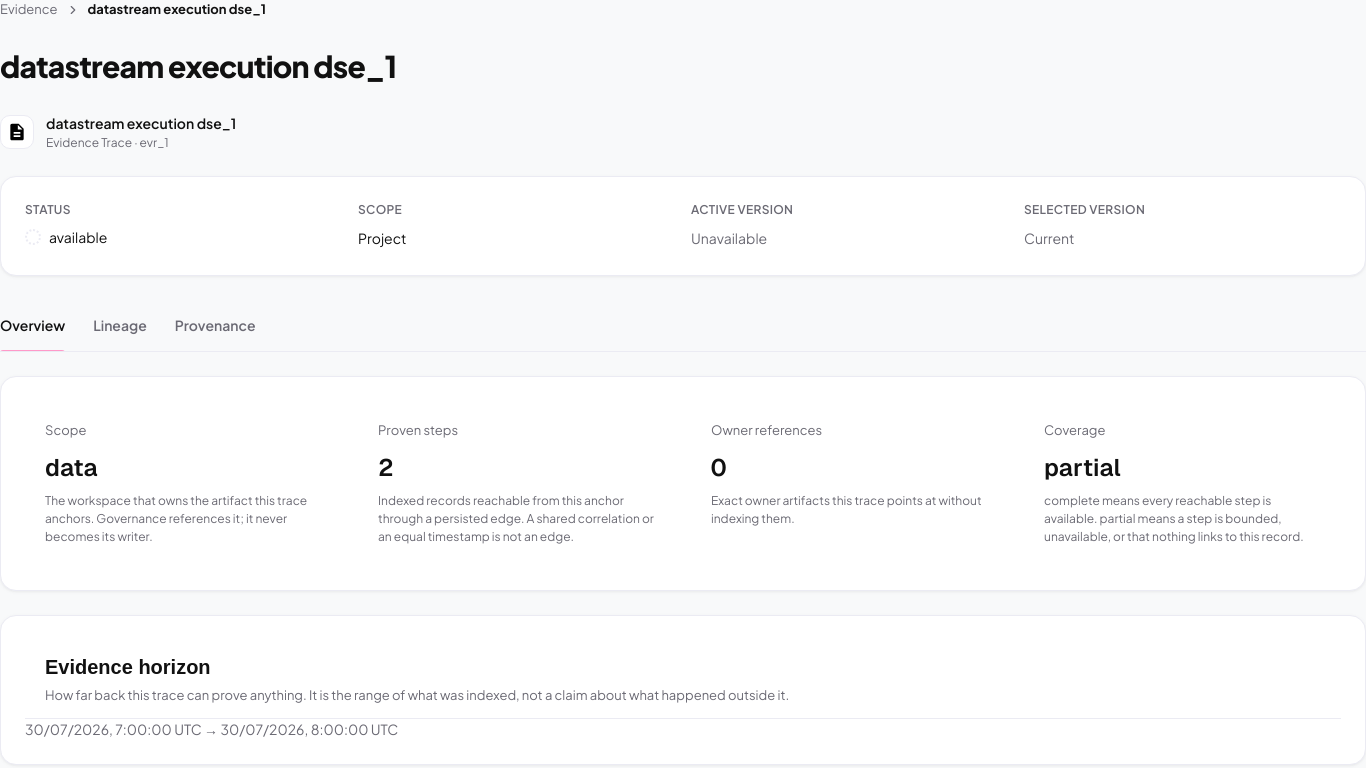
Test: the three Evidence workbenches › shows Overview, Lineage and Provenance as three different projections
Check: the heading "Evidence horizon" is shown, box [45, 656, 211, 678]
Check: the text "Proven steps" is shown, box [378, 422, 458, 438]
Click the link "Lineage" at (120, 326), box [93, 300, 147, 352]
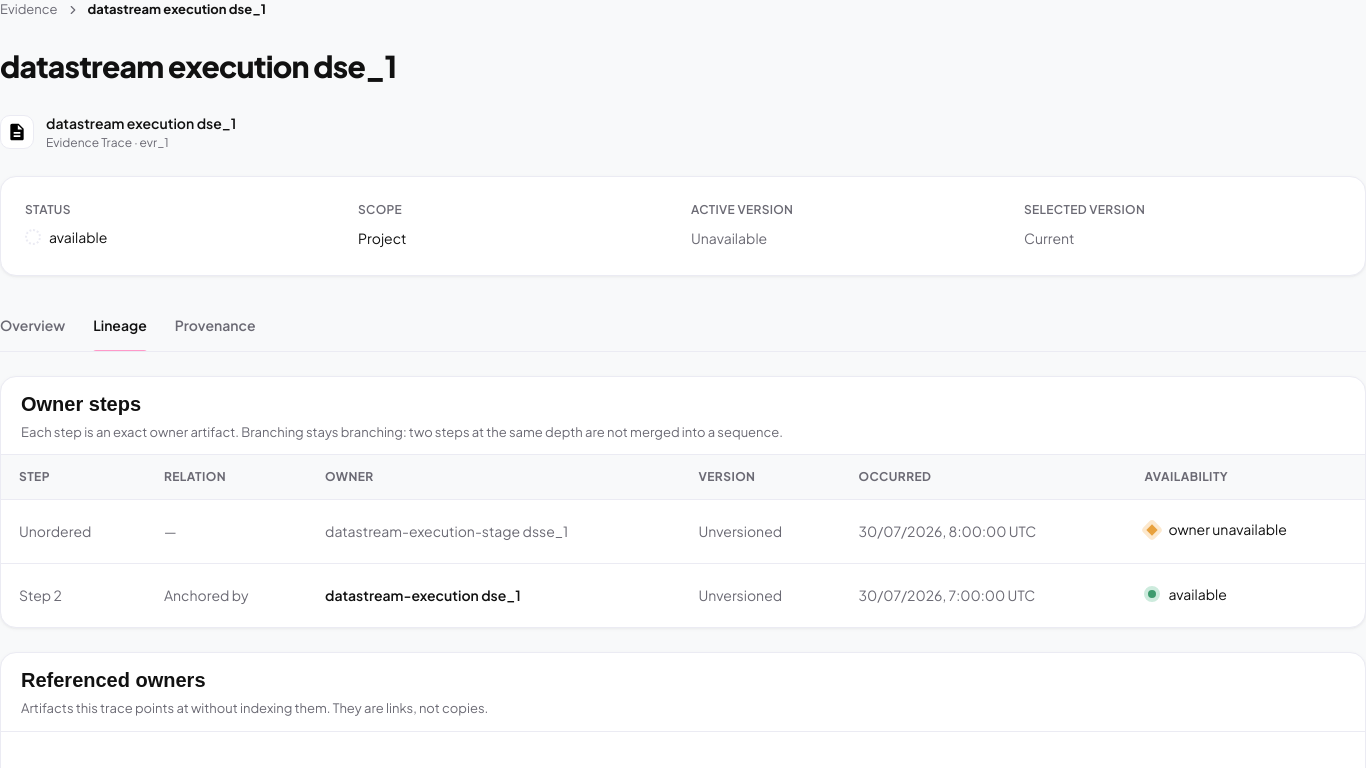
Check: the heading "Owner steps" is shown, box [21, 392, 141, 414]
Check: the text "Step 2" is shown, box [1, 563, 146, 627]
Check: the text "owner unavailable" is shown, box [1168, 519, 1287, 540]
Click the link "Provenance" at (215, 326), box [175, 300, 256, 352]
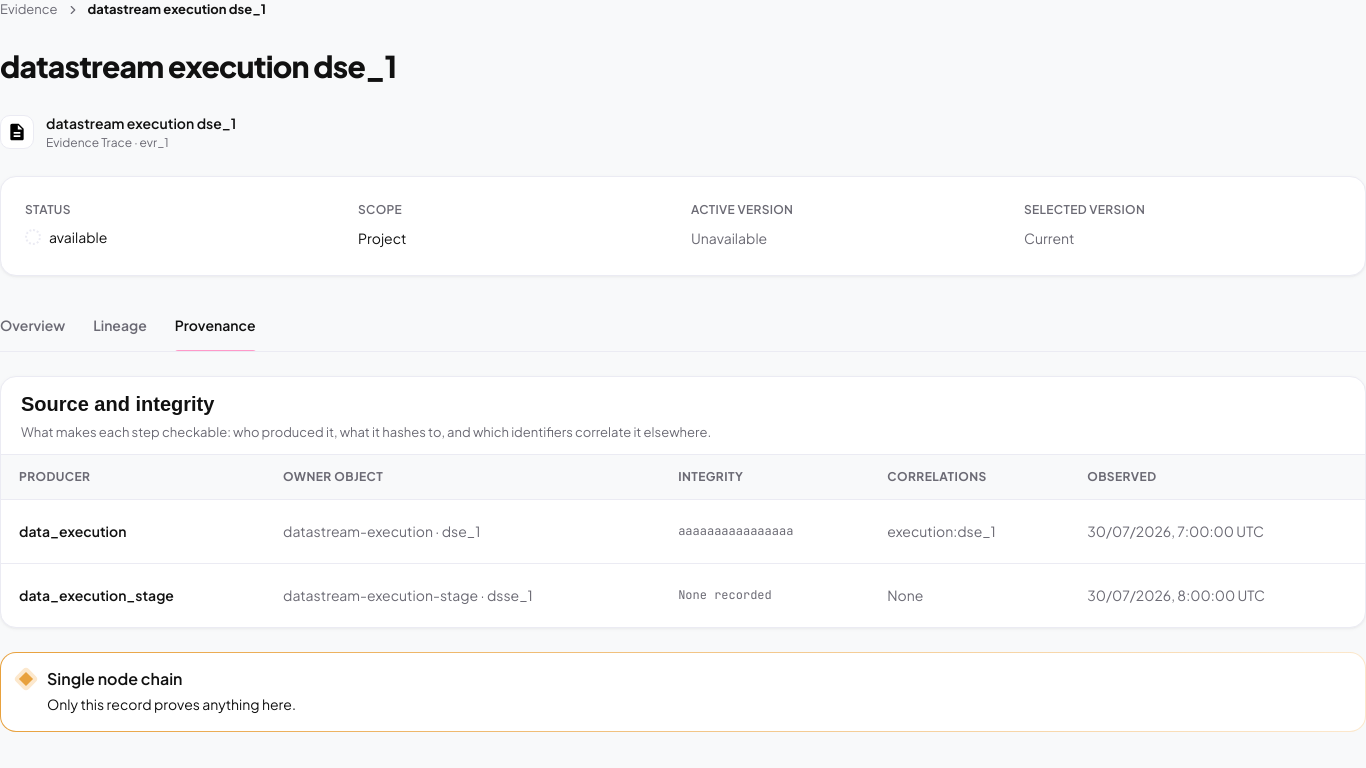
Check: the heading "Source and integrity" is shown, box [21, 392, 214, 414]
Check: the text "execution:dse_1" is shown, box [869, 499, 1069, 563]
